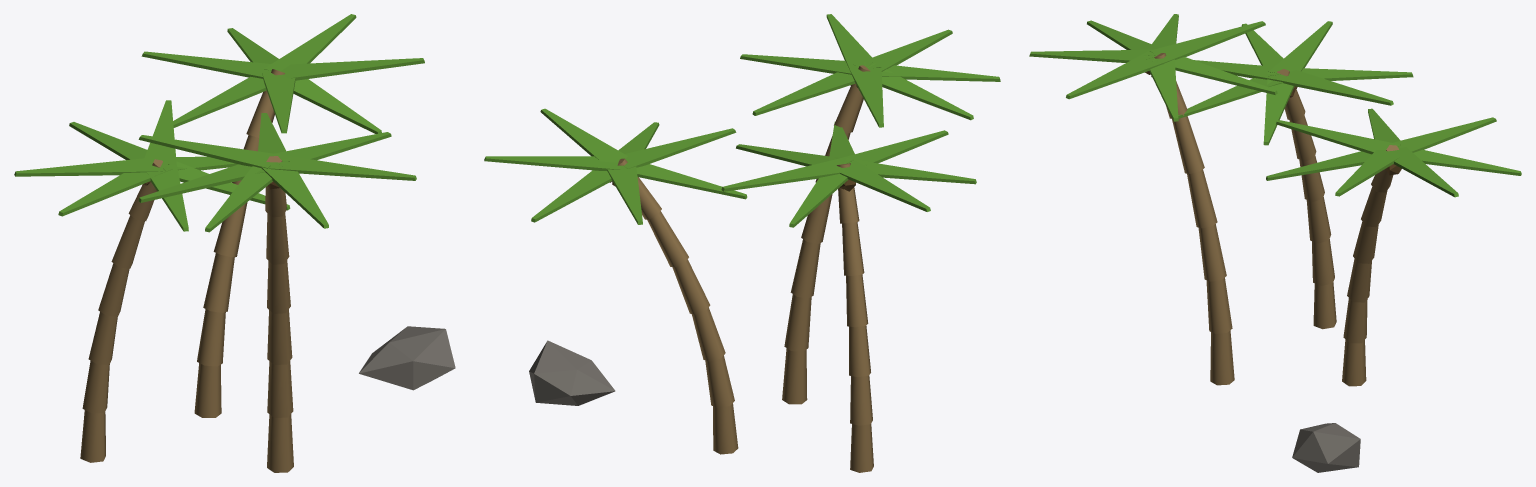
The model's file is sawyer_coastal_palms_d.glb.
3 renders of one model, left to right at view 1: azimuth 30°, elevation 25°; view 2: azimuth 150°, elevation 25°; view 3: azimuth 270°, elevation 25°, orthographic. The views are drawn at different scales.
Visible parts, largest first — view 1: rock_3_rock, palm_2_leaf6, palm_0_leaf4, palm_2_leaf2, palm_1_leaf0, palm_0_leaf0, palm_2_trunk0, palm_0_leaf1, palm_2_leaf4, palm_0_leaf5, palm_0_leaf3, palm_1_leaf1 (+27 smaller); view 2: rock_3_rock, palm_1_leaf5, palm_0_leaf2, palm_0_leaf5, palm_0_leaf4, palm_1_leaf0, palm_2_leaf1, palm_2_trunk0, palm_2_trunk1, palm_0_leaf1, palm_2_trunk2, palm_2_leaf3 (+27 smaller); view 3: rock_3_rock, palm_1_leaf5, palm_2_leaf2, palm_2_leaf6, palm_0_leaf2, palm_2_trunk0, palm_2_leaf1, palm_2_trunk1, palm_2_trunk2, palm_2_trunk3, palm_2_leaf5, palm_0_leaf0 (+26 smaller).
Boxes of the visible parts, bbox=[...] form: rock_3_rock: bbox=[359, 326, 455, 390]; palm_2_leaf6: bbox=[269, 155, 416, 180]; palm_0_leaf4: bbox=[280, 58, 424, 80]; palm_2_leaf2: bbox=[138, 135, 280, 168]; palm_1_leaf0: bbox=[14, 158, 162, 176]; palm_0_leaf0: bbox=[141, 51, 271, 78]; palm_2_trunk0: bbox=[267, 414, 293, 472]; palm_0_leaf1: bbox=[173, 76, 266, 127]; palm_2_leaf4: bbox=[205, 162, 289, 232]; palm_0_leaf5: bbox=[264, 14, 356, 71]; palm_0_leaf3: bbox=[293, 79, 381, 133]; palm_1_leaf1: bbox=[58, 165, 172, 216]; rock_3_rock: bbox=[529, 340, 615, 405]; palm_1_leaf5: bbox=[721, 159, 845, 191]; palm_0_leaf2: bbox=[623, 128, 736, 168]; palm_0_leaf5: bbox=[484, 156, 620, 170]; palm_0_leaf4: bbox=[540, 108, 627, 162]; palm_1_leaf0: bbox=[840, 161, 930, 211]; palm_2_leaf1: bbox=[752, 63, 860, 115]; palm_2_trunk0: bbox=[782, 348, 807, 404]; palm_2_trunk1: bbox=[784, 294, 811, 351]; palm_0_leaf1: bbox=[636, 164, 747, 199]; palm_2_trunk2: bbox=[790, 239, 820, 298]; palm_2_leaf3: bbox=[867, 63, 973, 120]; rock_3_rock: bbox=[1292, 423, 1360, 472]; palm_1_leaf5: bbox=[1274, 70, 1393, 105]; palm_2_leaf2: bbox=[1149, 21, 1265, 61]; palm_2_leaf6: bbox=[1066, 51, 1170, 99]; palm_0_leaf2: bbox=[1276, 120, 1400, 154]; palm_2_trunk0: bbox=[1210, 330, 1234, 385]; palm_2_leaf1: bbox=[1152, 57, 1277, 94]; palm_2_trunk1: bbox=[1206, 277, 1232, 333]; palm_2_trunk2: bbox=[1198, 224, 1226, 281]; palm_2_trunk3: bbox=[1187, 169, 1217, 228]; palm_2_leaf5: bbox=[1029, 49, 1158, 62]; palm_0_leaf0: bbox=[1392, 117, 1496, 152].
Bounding box in the file's own units: 4.08 × 3.09 × 4.44.
